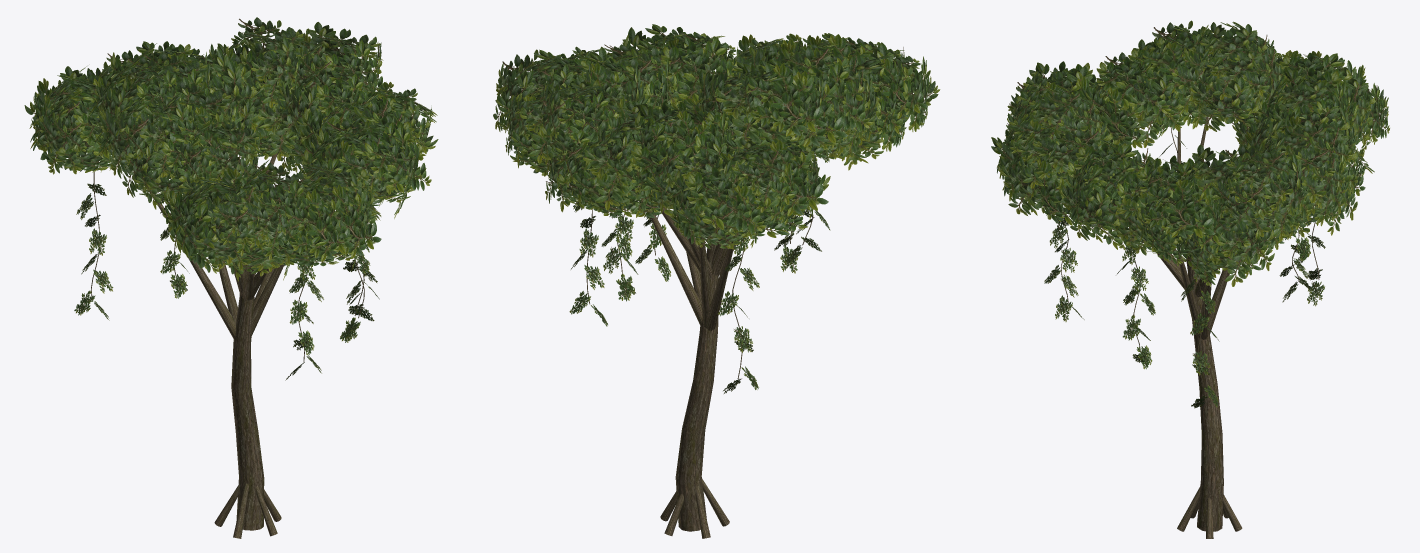
Rendered from tree_01.glb.
3 renders of one model, left to right at view 1: azimuth 30°, elevation 25°; view 2: azimuth 150°, elevation 25°; view 3: azimuth 270°, elevation 25°, orthographic. The views are drawn at different scales.
Parts seen in each view (by area): view 1: tree_01; view 2: tree_01; view 3: tree_01.
Boxes of the visible parts, bbox=[...] form: tree_01: bbox=[24, 17, 438, 538]; tree_01: bbox=[493, 24, 940, 538]; tree_01: bbox=[991, 20, 1389, 538].
Size of the model in its own units: 8.84 by 11.45 by 9.62.
Materials: 2 (2 with a texture image).
